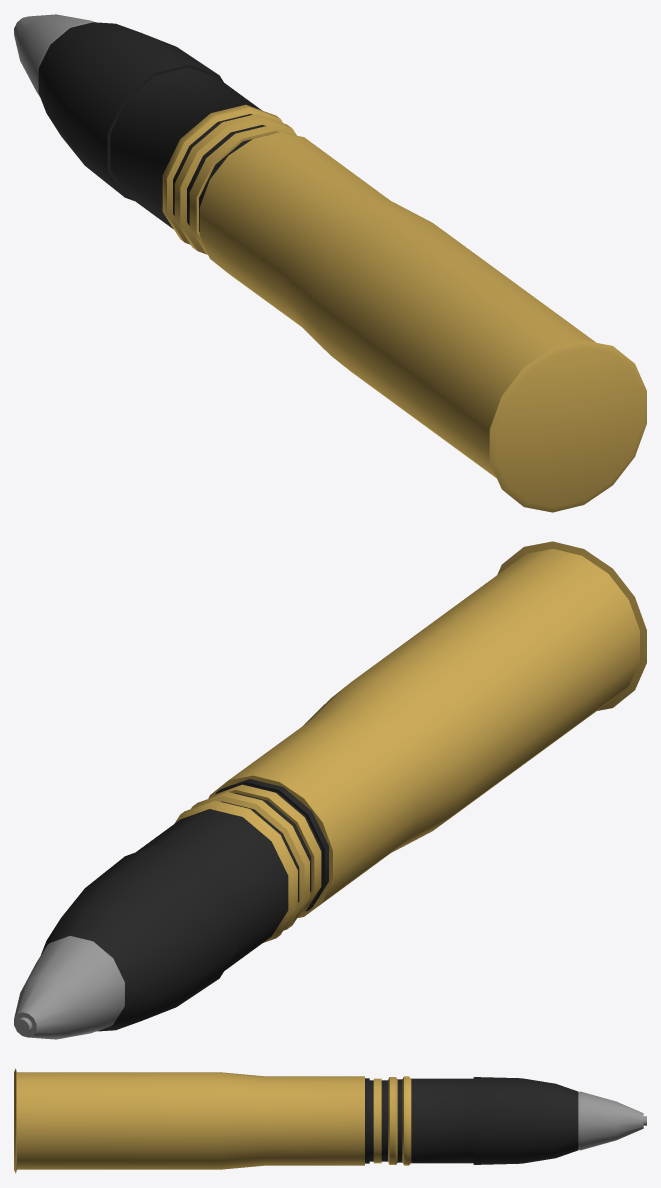
File: he_shell_122.fbx
3 views of the same model, one above another, from view 1: azimuth 30°, elevation 25°; view 2: azimuth 150°, elevation 25°; view 3: azimuth 270°, elevation 25° (orthographic). The views are drawn at different scales.
Parts seen in each view (by area): view 1: Case; view 2: Case; view 3: Case.
Part boxes in pixels (bbox=[...]): Case: bbox=[14, 14, 646, 512]; Case: bbox=[14, 541, 646, 1039]; Case: bbox=[14, 1068, 646, 1173].
Size of the model in its own units: 99.46 by 99.46 by 600.
